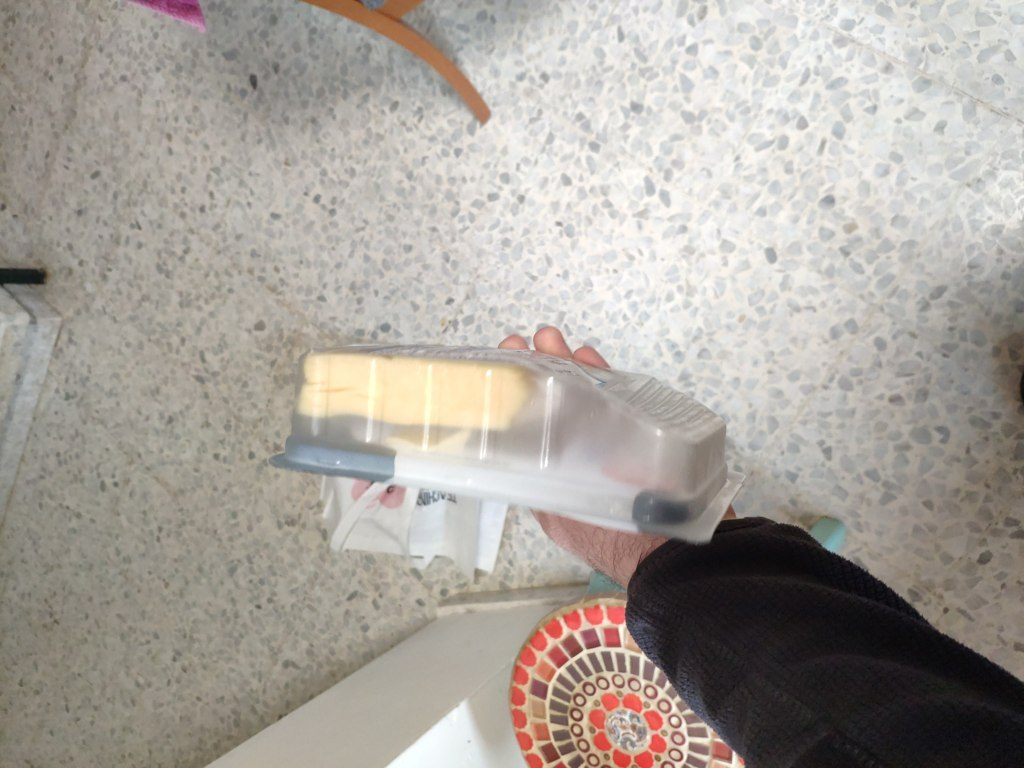Cheese: (281, 334, 716, 537)
